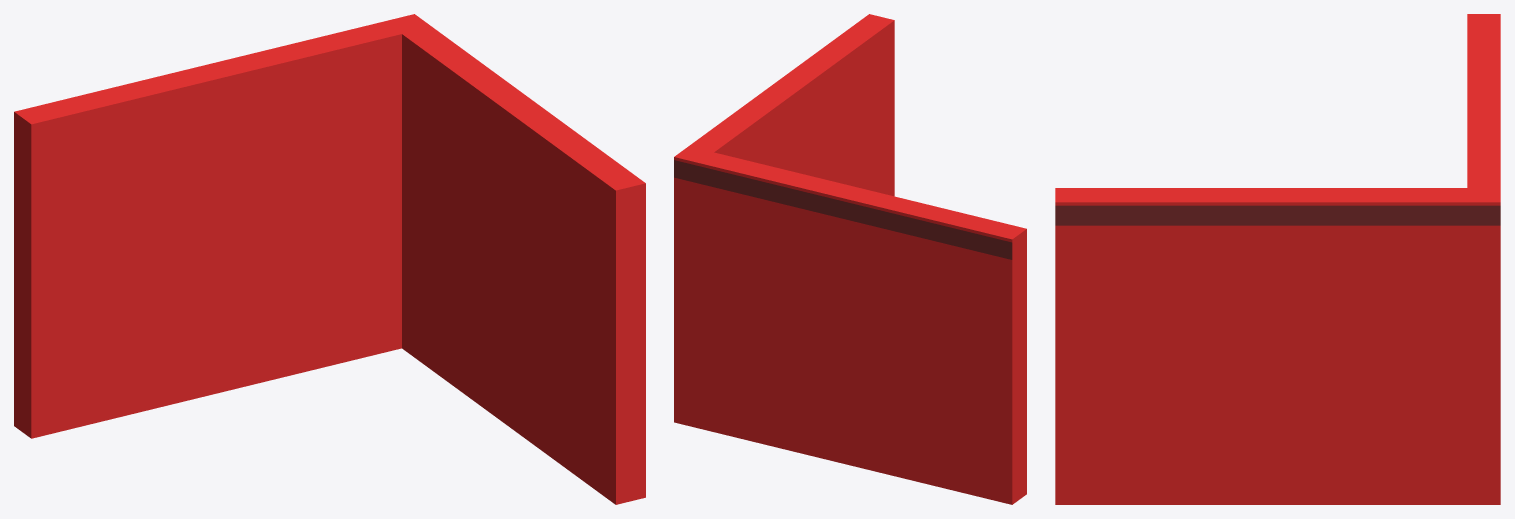
File: b1.wall-corner.fbx
3 renders of one model, left to right at view 1: azimuth 30°, elevation 25°; view 2: azimuth 150°, elevation 25°; view 3: azimuth 270°, elevation 25°, orthographic. The views are drawn at different scales.
Parts seen in each view (by area): view 1: b1 wall corner; view 2: b1 wall corner; view 3: b1 wall corner.
Boxes of the visible parts, bbox=[...] form: b1 wall corner: bbox=[14, 14, 645, 504]; b1 wall corner: bbox=[674, 14, 1026, 504]; b1 wall corner: bbox=[1055, 14, 1500, 504].
Bounding box in the file's own units: 4 × 3 × 4.
